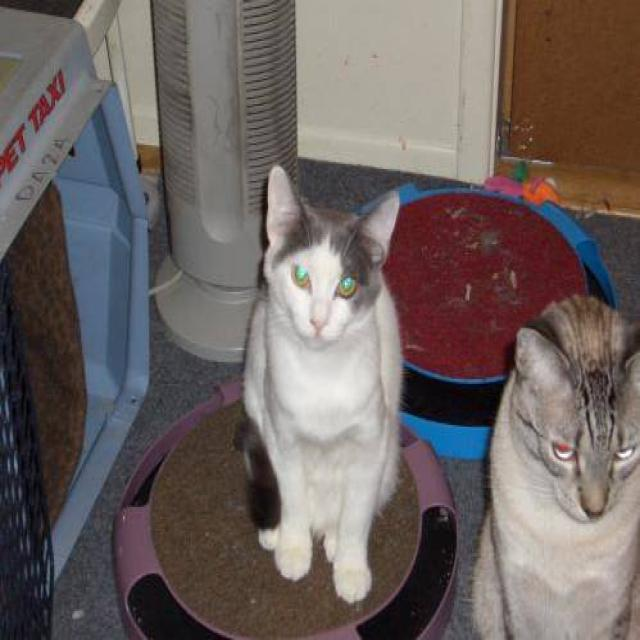Cat: (505, 311, 640, 536), (254, 154, 403, 355)
